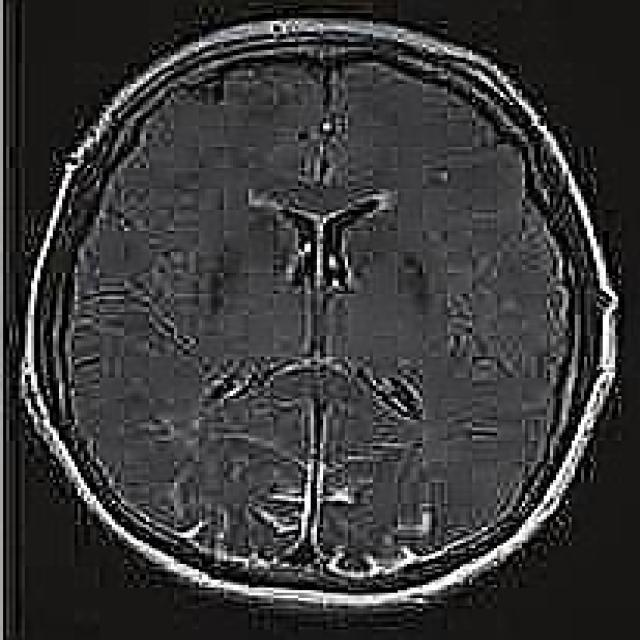notumor: (9, 5, 618, 622)
